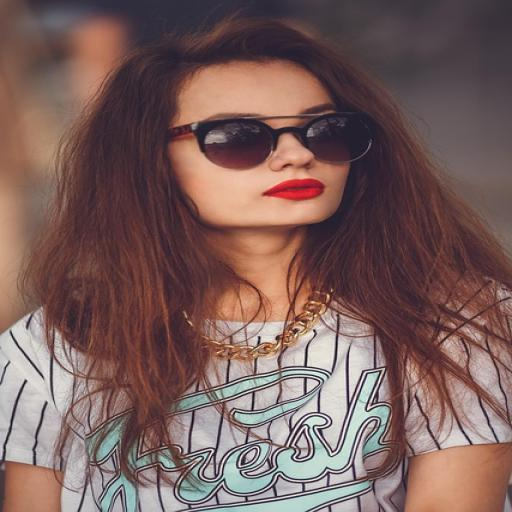lipstick: (264, 179, 324, 199)
